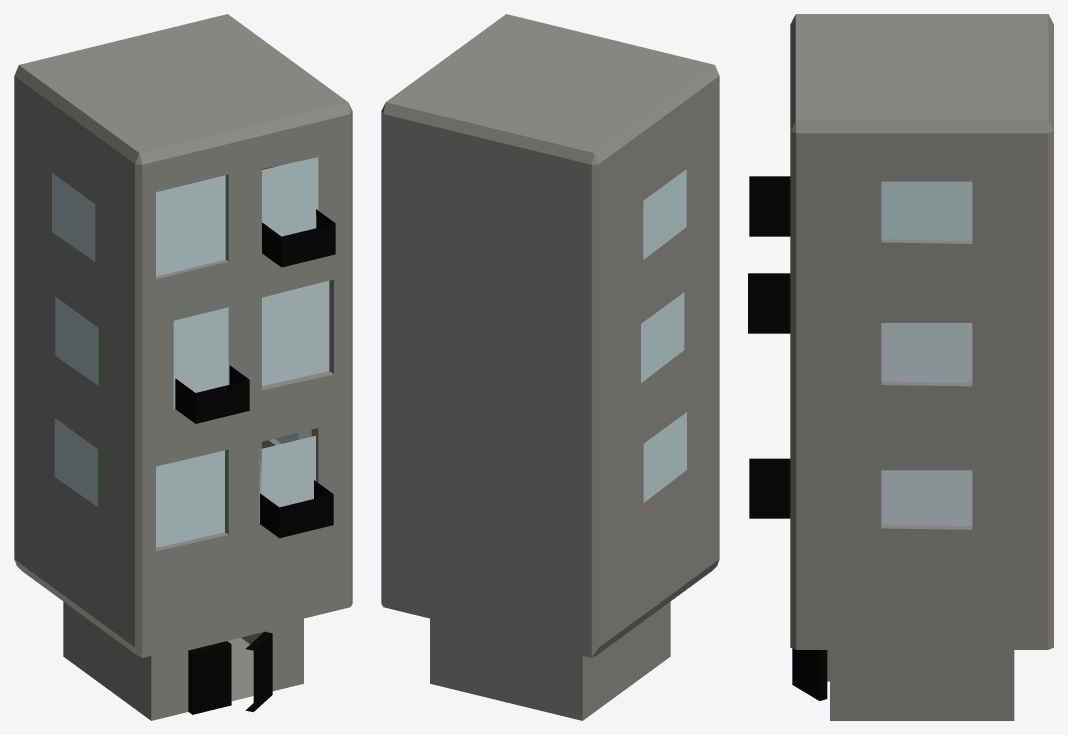
Rendered from flatgrijs!.fbx.
3 renders of one model, left to right at view 1: azimuth 30°, elevation 25°; view 2: azimuth 150°, elevation 25°; view 3: azimuth 270°, elevation 25°, orthographic. The views are drawn at different scales.
Parts seen in each view (by area): view 1: Cube, Cube.005, Cube.004, Cube.006, Cube.014, Cube.013, Cube.012, Cube.007, Cube.017, Cube.015, Cube.016, Cube.002 (+3 smaller); view 2: Cube, Cube.015, Cube.016, Cube.017; view 3: Cube, Cube.010, Cube.009, Cube.011, Cube.002, Cube.001, Cube.003, Cube.008.
Part boxes in pixels (<box>): Cube: <box>14,14,352,720</box>; Cube.005: <box>262,280,329,385</box>; Cube.004: <box>156,175,225,276</box>; Cube.006: <box>156,450,224,547</box>; Cube.014: <box>173,307,228,409</box>; Cube.013: <box>262,157,318,236</box>; Cube.012: <box>259,435,315,522</box>; Cube.007: <box>188,641,231,714</box>; Cube.017: <box>54,418,97,506</box>; Cube.015: <box>52,173,95,261</box>; Cube.016: <box>55,296,98,385</box>; Cube.002: <box>175,365,249,423</box>; Cube: <box>381,14,719,720</box>; Cube.015: <box>643,169,686,259</box>; Cube.016: <box>641,292,684,382</box>; Cube.017: <box>643,412,686,502</box>; Cube: <box>790,14,1053,720</box>; Cube.010: <box>881,323,972,382</box>; Cube.009: <box>881,181,972,240</box>; Cube.011: <box>881,470,972,526</box>; Cube.002: <box>748,273,790,333</box>; Cube.001: <box>749,176,790,236</box>; Cube.003: <box>749,458,790,518</box>; Cube.008: <box>792,648,827,700</box>.
Size of the model in its own units: 541 by 1368 by 617.
